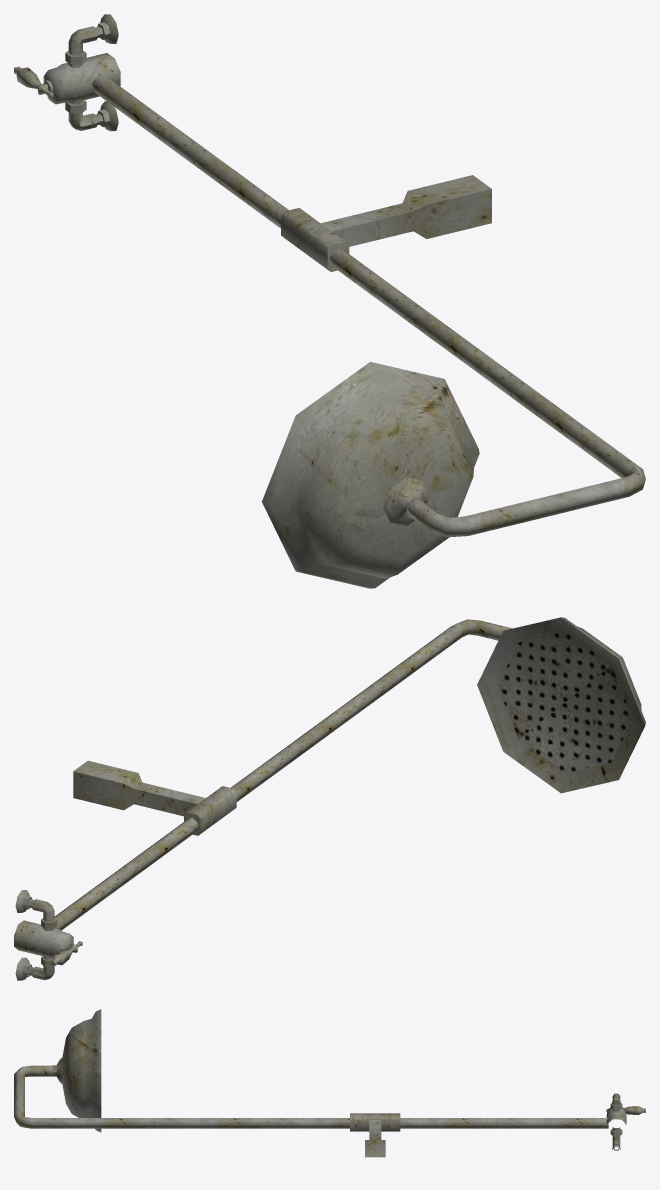
The model's file is furniture_frenchbathshowerhead.glb.
3 views of the same model, one above another, from view 1: azimuth 30°, elevation 25°; view 2: azimuth 150°, elevation 25°; view 3: azimuth 270°, elevation 25° (orthographic). The views are drawn at different scales.
Bounding box in the file's own units: 40.64 × 18.59 × 86.9.
1 material, 1 textured.
